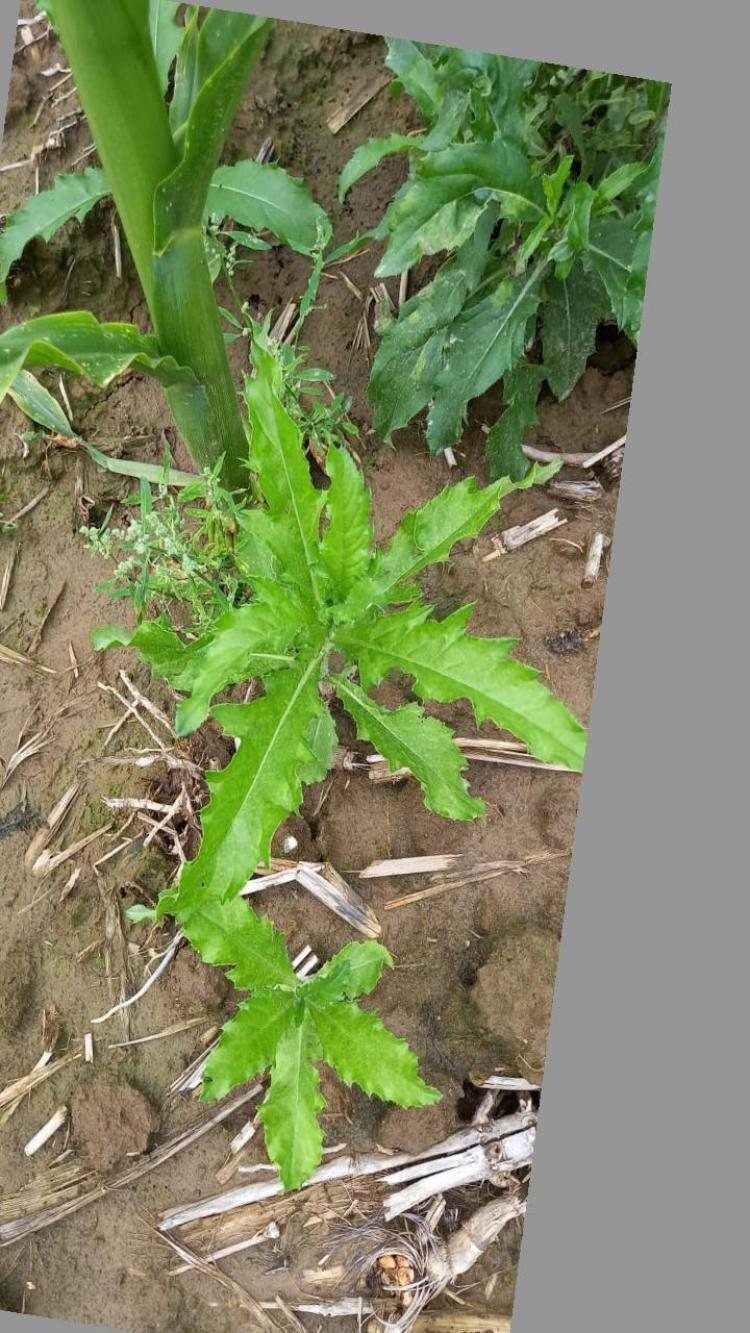osot: (100, 329, 590, 902), (140, 894, 460, 1190)
